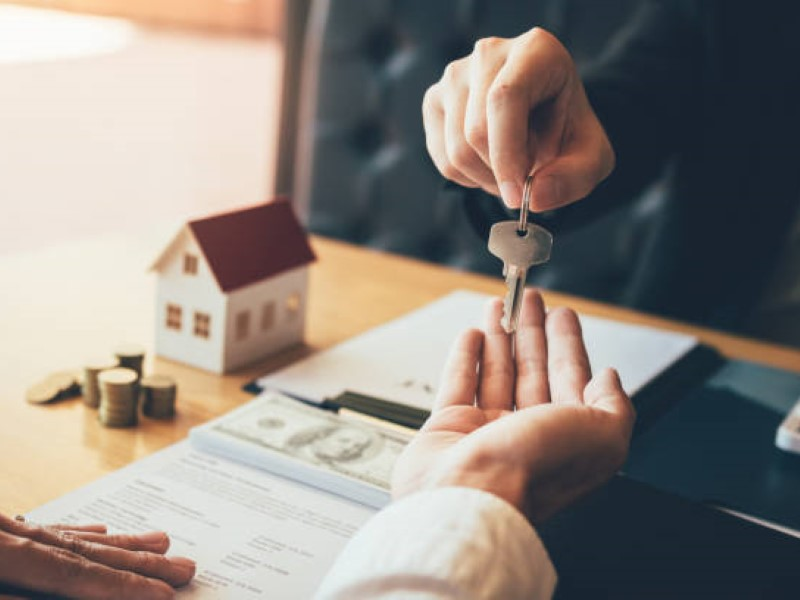key: (484, 217, 556, 337)
